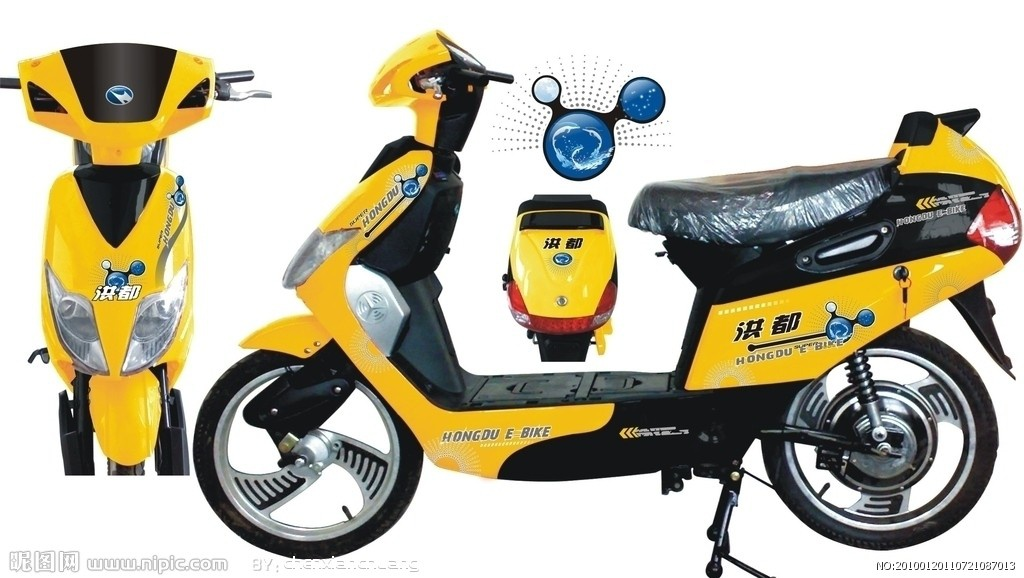non-vehicle: (208, 29, 1014, 563), (4, 38, 201, 484)
